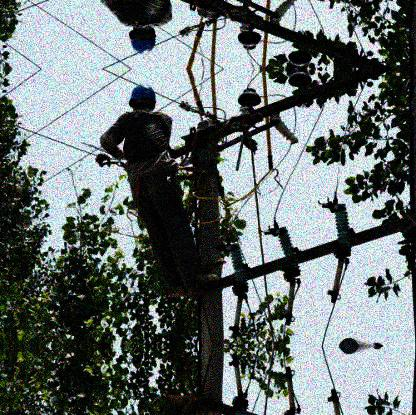helmet: (126, 25, 159, 54), (129, 83, 158, 113)
